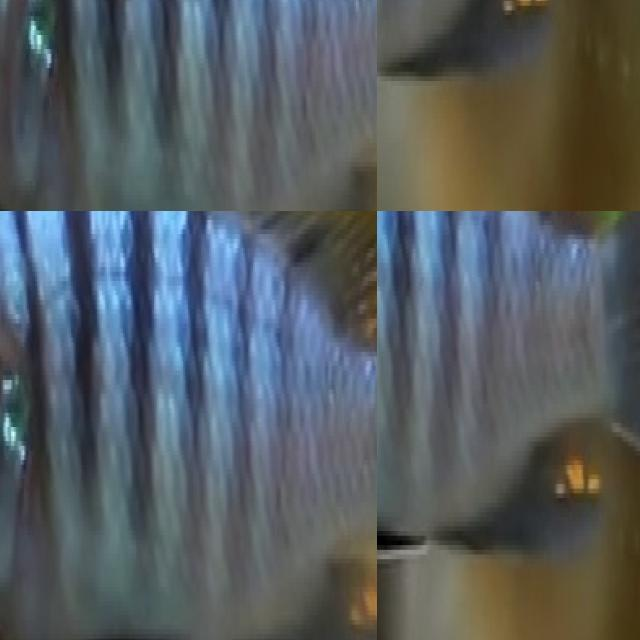fish: (0, 211, 377, 640), (377, 211, 640, 639), (0, 0, 377, 211), (377, 0, 640, 170)
